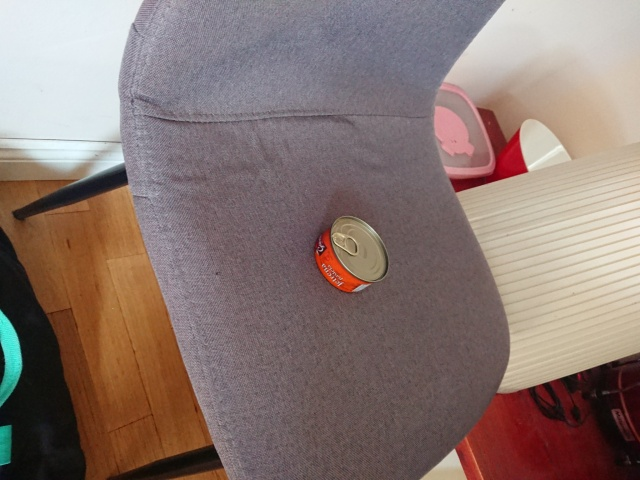Gavrilovic Pork Liver Pate 100g: (312, 213, 391, 296)
